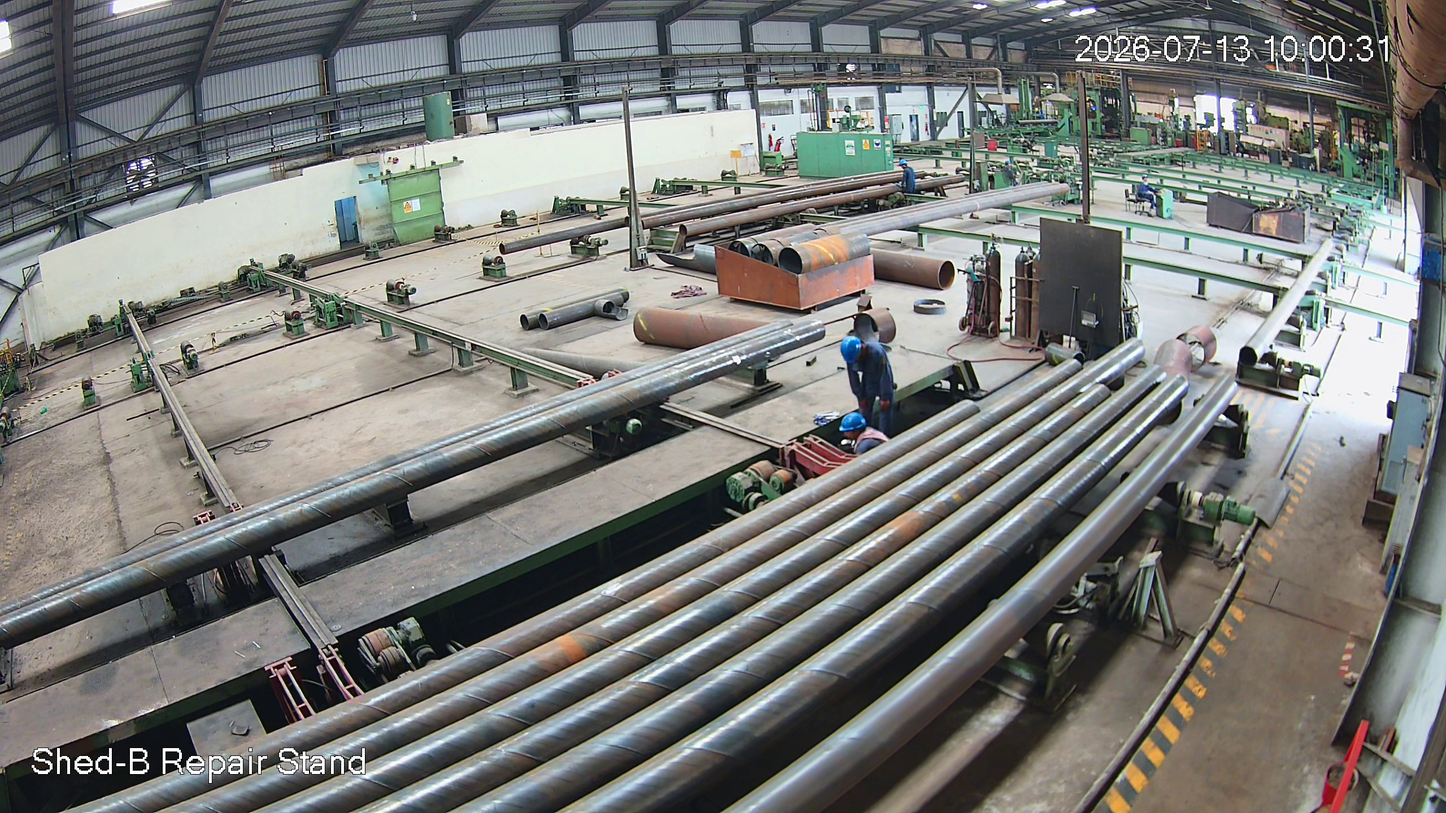Helmet: (839, 334, 868, 367), (839, 411, 869, 440)
Person: (840, 335, 900, 433), (833, 412, 896, 462)
